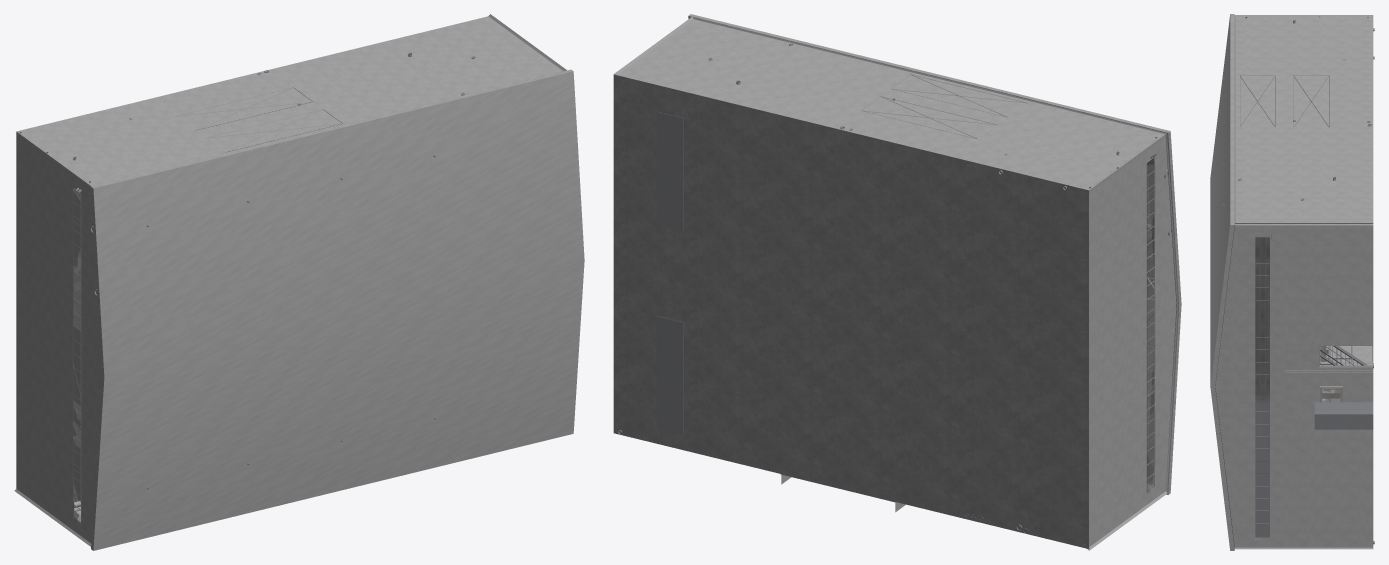
The model's file is factory_hall.obj.
3 renders of one model, left to right at view 1: azimuth 30°, elevation 25°; view 2: azimuth 150°, elevation 25°; view 3: azimuth 270°, elevation 25°, orthographic. The views are drawn at different scales.
Parts seen in each view (by area): view 1: factory_hall_wall_01_2, factory_hall_wall_01, factory_hall_walltrimsheet_01_2, factory_hall_window_01; view 2: factory_hall_floor_01, factory_hall_wall_01, factory_hall_walltrimsheet_01_2, factory_hall_factory_wall_trimsheet_01_albedotransparency, factory_hall_wall_01_2, factory_hall_window_01; view 3: factory_hall_wall_01, factory_hall_wall_01_2, factory_hall_walltrimsheet_01, factory_hall_walltrimsheet_01_2, factory_hall_factory_wall_trimsheet_01_albedotransparency.
Part boxes in pixels (x1=…): factory_hall_wall_01_2: x1=91, y1=69, x2=584, y2=550; factory_hall_wall_01: x1=16, y1=16, x2=562, y2=543; factory_hall_walltrimsheet_01_2: x1=14, y1=14, x2=566, y2=546; factory_hall_window_01: x1=72, y1=190, x2=81, y2=521; factory_hall_floor_01: x1=613, y1=74, x2=1088, y2=548; factory_hall_wall_01: x1=614, y1=19, x2=1176, y2=548; factory_hall_walltrimsheet_01_2: x1=613, y1=16, x2=1178, y2=550; factory_hall_factory_wall_trimsheet_01_albedotransparency: x1=656, y1=111, x2=683, y2=434; factory_hall_wall_01_2: x1=688, y1=14, x2=1181, y2=494; factory_hall_window_01: x1=729, y1=164, x2=1155, y2=494; factory_hall_wall_01: x1=1215, y1=17, x2=1373, y2=547; factory_hall_wall_01_2: x1=1210, y1=14, x2=1234, y2=550; factory_hall_walltrimsheet_01: x1=1255, y1=237, x2=1373, y2=537; factory_hall_walltrimsheet_01_2: x1=1215, y1=15, x2=1374, y2=549; factory_hall_factory_wall_trimsheet_01_albedotransparency: x1=1314, y1=402, x2=1373, y2=429.
Size of the model in its own units: 25.19 by 18.65 by 8.28.
Materials: 11 (9 with a texture image).
